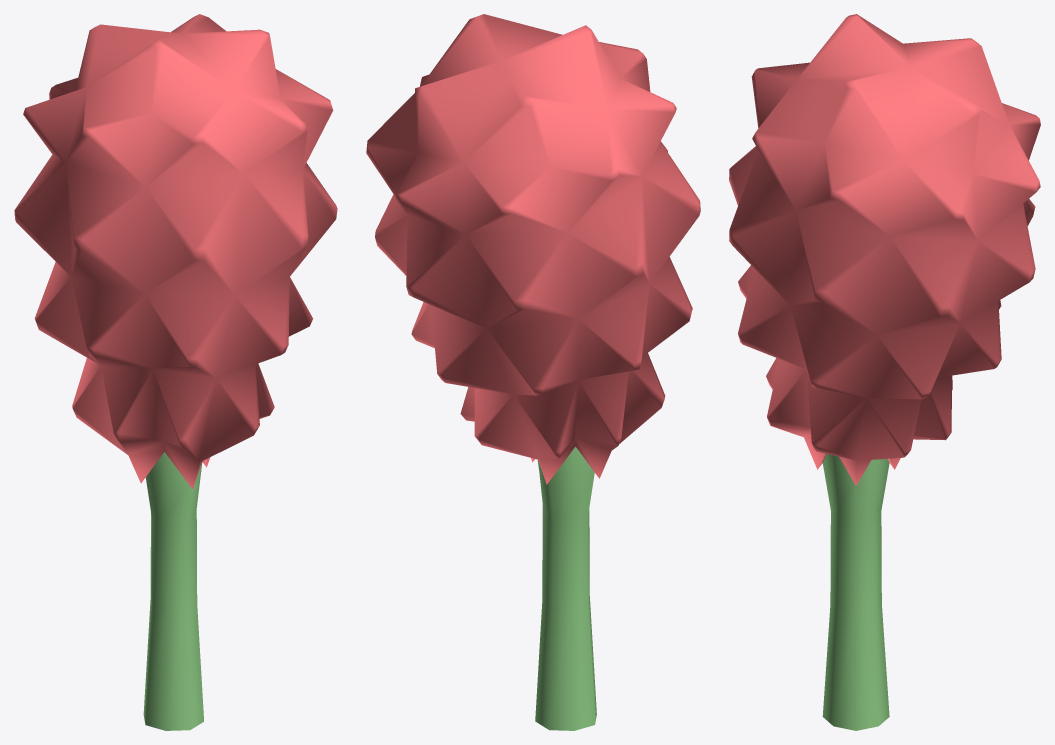
The model's file is SpikeOilFruit.fbx.
The picture shows the model from 3 angles, left to right: view 1: azimuth 30°, elevation 25°; view 2: azimuth 150°, elevation 25°; view 3: azimuth 270°, elevation 25°; orthographic projection.
Parts seen in each view (by area): view 1: SpikeOilFruit_Item_LOD0, SpikeOilFruit_Base_LOD0; view 2: SpikeOilFruit_Item_LOD0, SpikeOilFruit_Base_LOD0; view 3: SpikeOilFruit_Item_LOD0, SpikeOilFruit_Base_LOD0.
Boxes of the visible parts, bbox=[...] form: SpikeOilFruit_Item_LOD0: bbox=[14, 14, 337, 489]; SpikeOilFruit_Base_LOD0: bbox=[143, 452, 203, 730]; SpikeOilFruit_Item_LOD0: bbox=[366, 14, 700, 484]; SpikeOilFruit_Base_LOD0: bbox=[535, 446, 596, 730]; SpikeOilFruit_Item_LOD0: bbox=[729, 14, 1040, 485]; SpikeOilFruit_Base_LOD0: bbox=[822, 454, 889, 730].
Size of what is drawn, in the model's own units: 0.1788 by 0.4363 by 0.1778.
